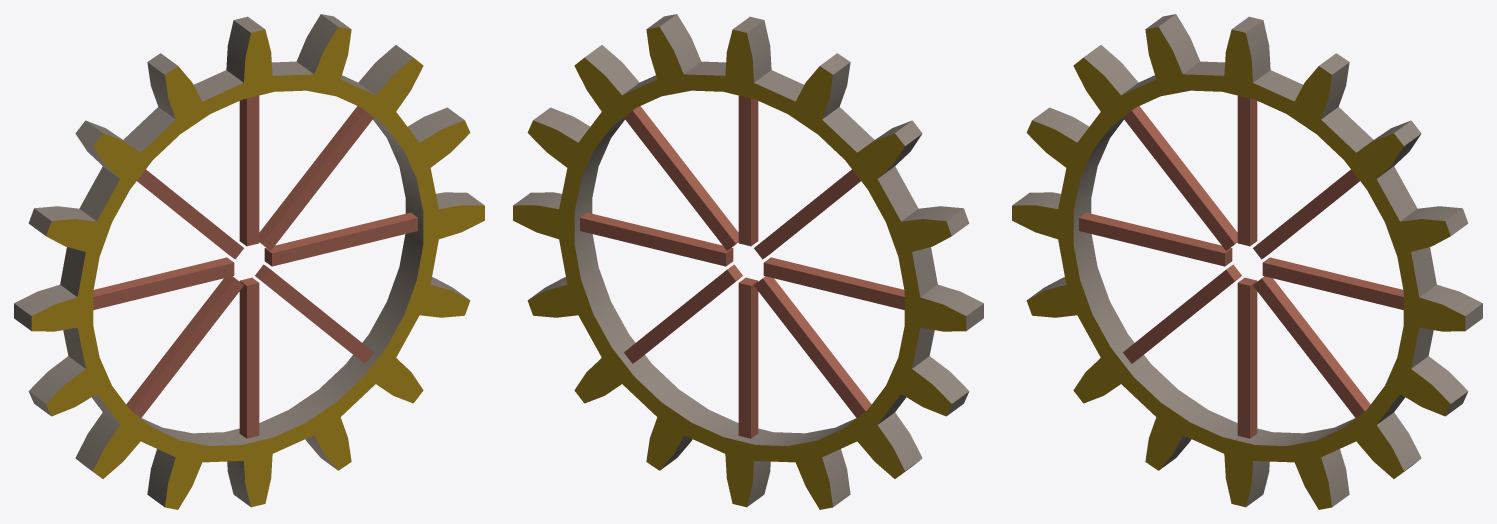
Rendered from Engranaje2.fbx.
3 views of the same model, side by side, from view 1: azimuth 30°, elevation 25°; view 2: azimuth 150°, elevation 25°; view 3: azimuth 330°, elevation 25° (orthographic).
Visible parts, largest first — view 1: pGear2, pCube6, pCube10, pCube9, pCube7, pCube5, pCube11, pCube8, pCube12; view 2: pGear2, pCube6, pCube10, pCube9, pCube7, pCube5, pCube11, pCube8, pCube12; view 3: pGear2, pCube12, pCube8, pCube9, pCube11, pCube5, pCube7, pCube10, pCube6.
Boxes of the visible parts, bbox=[...] form: pGear2: bbox=[14, 14, 484, 509]; pCube6: bbox=[259, 106, 373, 250]; pCube10: bbox=[126, 276, 243, 417]; pCube9: bbox=[239, 277, 259, 438]; pCube7: bbox=[264, 212, 417, 266]; pCube5: bbox=[239, 95, 259, 246]; pCube11: bbox=[93, 257, 234, 309]; pCube8: bbox=[255, 264, 373, 363]; pCube12: bbox=[137, 169, 243, 259]; pGear2: bbox=[513, 14, 983, 509]; pCube6: bbox=[624, 106, 738, 250]; pCube10: bbox=[754, 276, 871, 417]; pCube9: bbox=[738, 277, 758, 438]; pCube7: bbox=[580, 212, 733, 266]; pCube5: bbox=[738, 95, 758, 246]; pCube11: bbox=[763, 257, 904, 309]; pCube8: bbox=[624, 264, 742, 363]; pCube12: bbox=[754, 169, 860, 259]; pGear2: bbox=[1012, 14, 1482, 509]; pCube12: bbox=[1123, 106, 1237, 250]; pCube8: bbox=[1253, 276, 1370, 417]; pCube9: bbox=[1237, 277, 1257, 438]; pCube11: bbox=[1079, 212, 1232, 266]; pCube5: bbox=[1237, 95, 1257, 246]; pCube7: bbox=[1262, 257, 1403, 309]; pCube10: bbox=[1123, 264, 1241, 363]; pCube6: bbox=[1253, 169, 1359, 259].
Bounding box in the file's own units: 11.92 × 11.92 × 0.7995.
